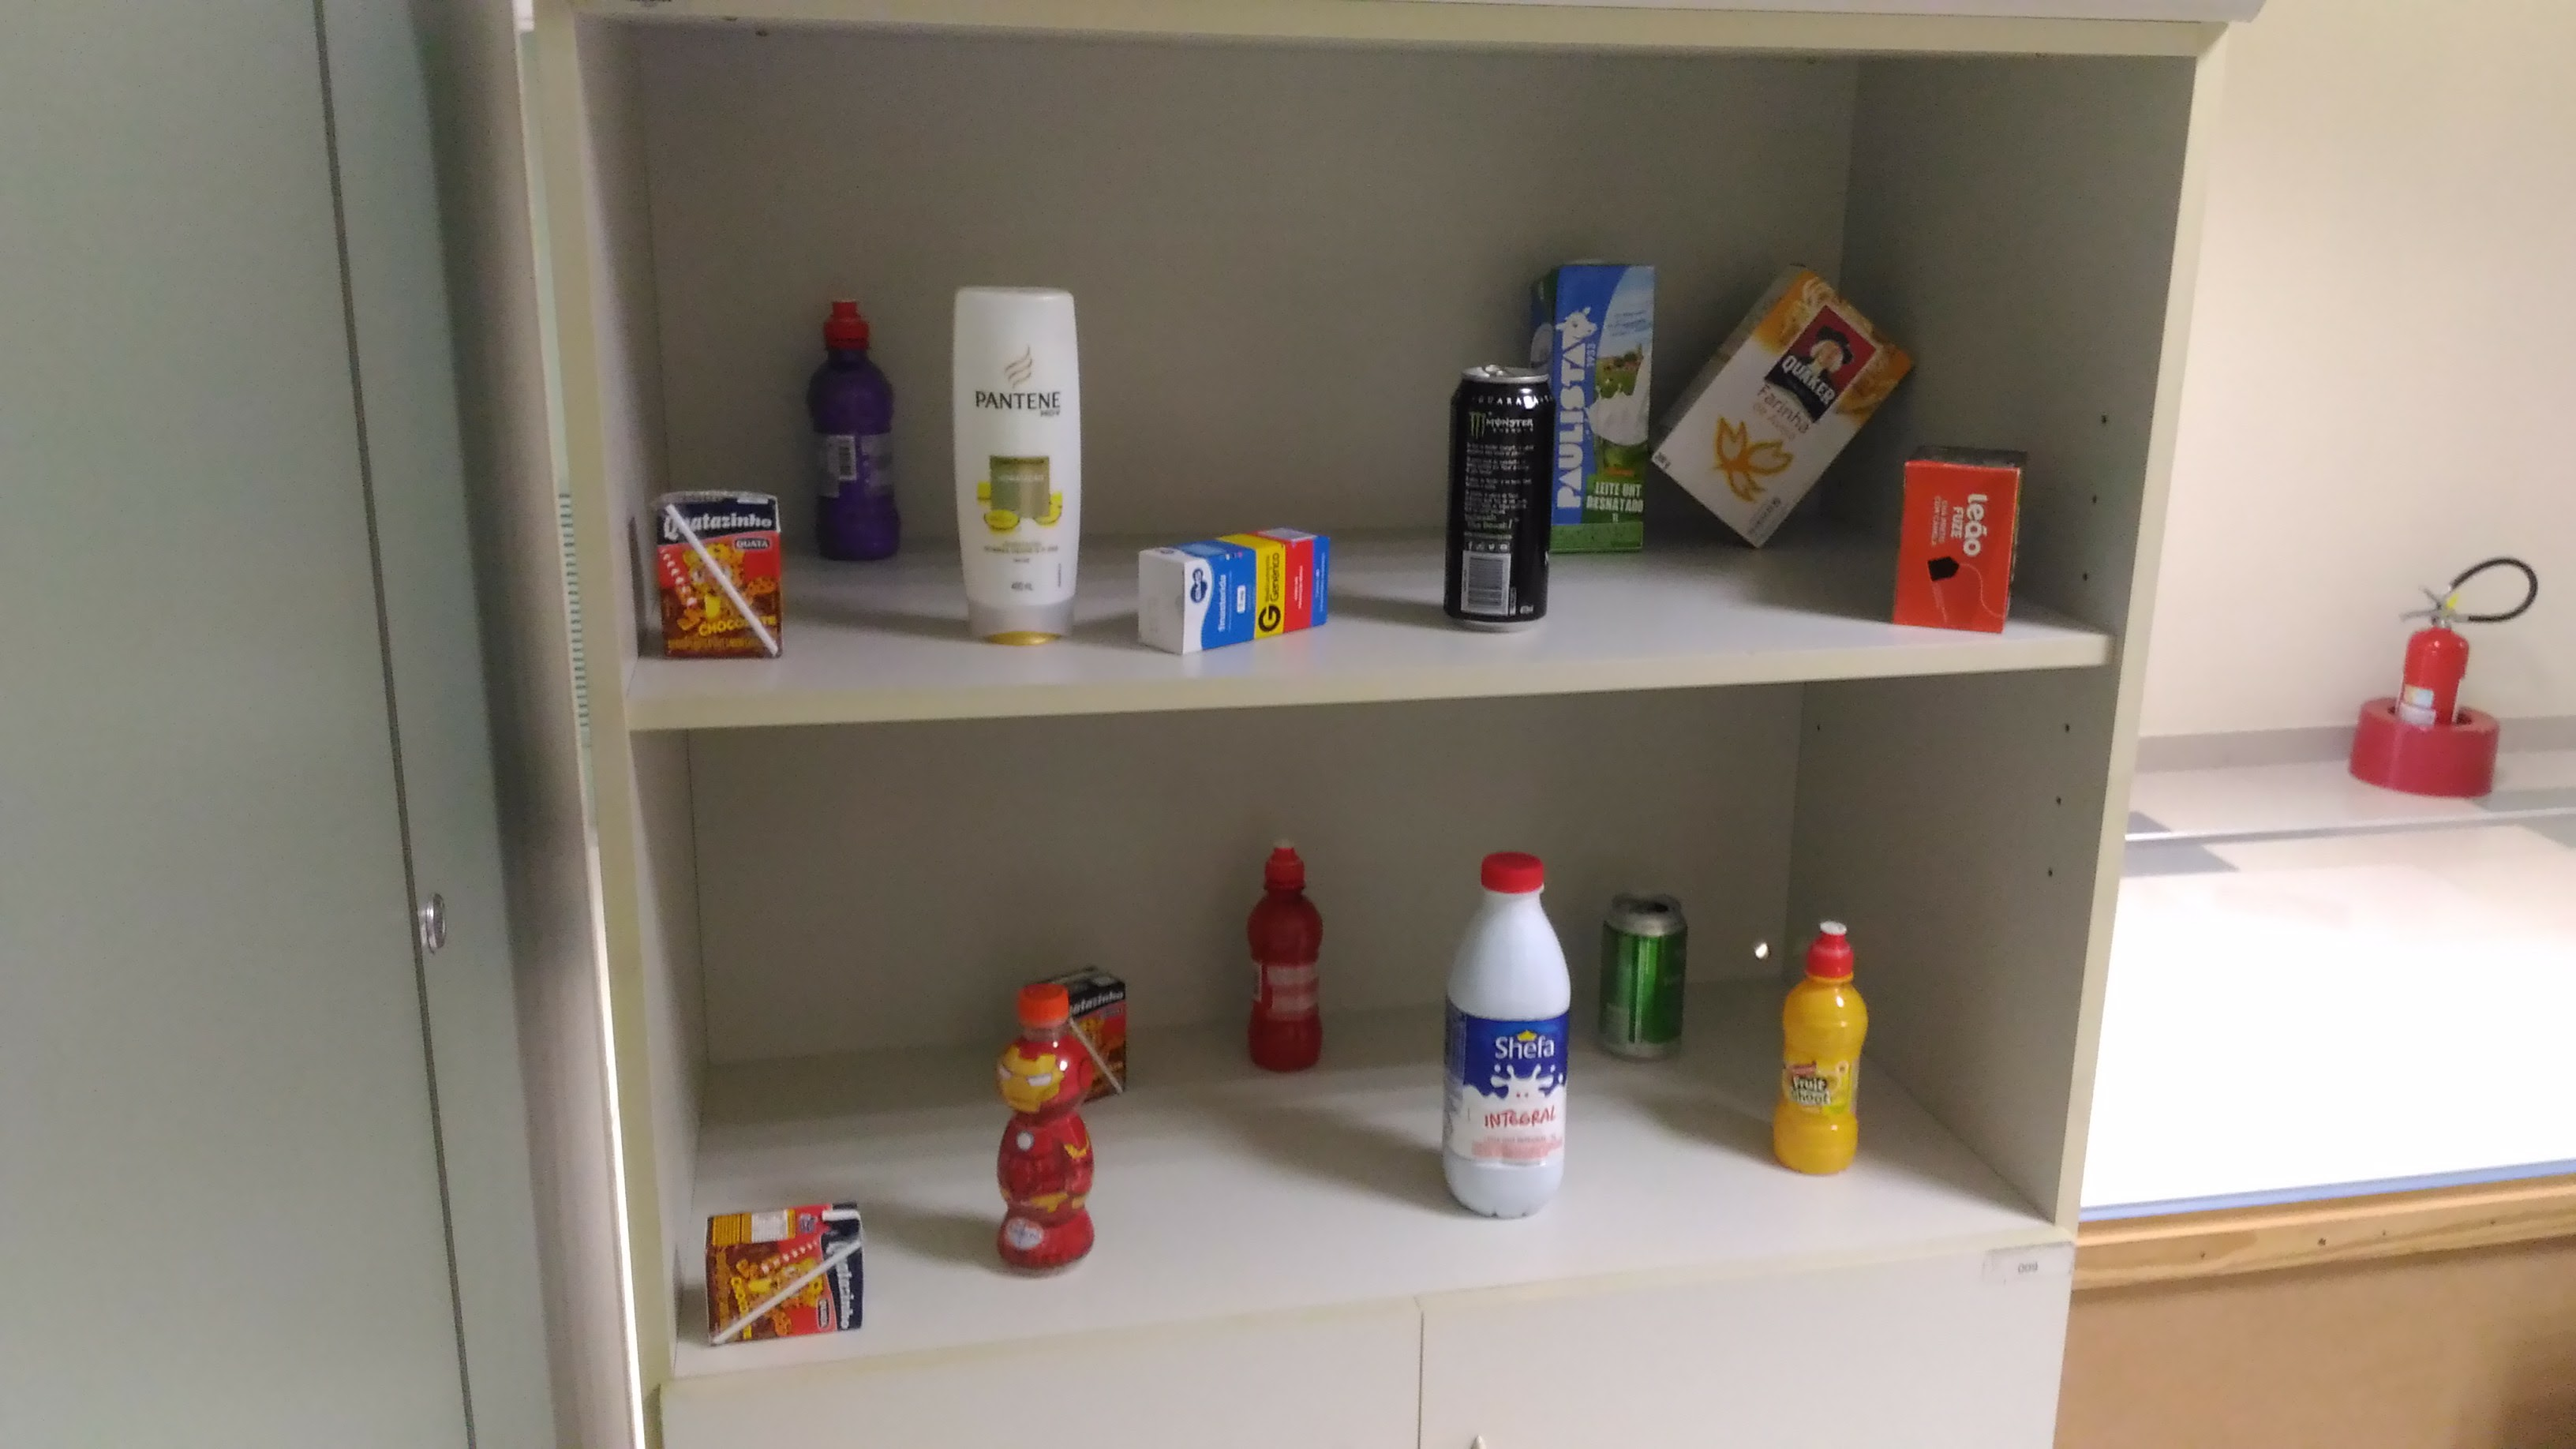cereal: (1646, 253, 1930, 556)
chocolate_milk: (698, 1191, 876, 1354), (642, 477, 792, 669)
heineken: (1595, 889, 1694, 1064)
iron_man: (992, 974, 1099, 1279)
medicine: (1133, 520, 1339, 661)
milk_bottle: (1432, 847, 1581, 1227)
milk_box: (1533, 253, 1657, 565)
monster: (1437, 354, 1559, 635)
purple_juice: (803, 289, 910, 576)
red_juice: (1237, 830, 1333, 1081)
shampoo: (942, 272, 1093, 650)
tea_box: (1891, 444, 2038, 644)
yellow_juice: (1764, 912, 1877, 1182)
